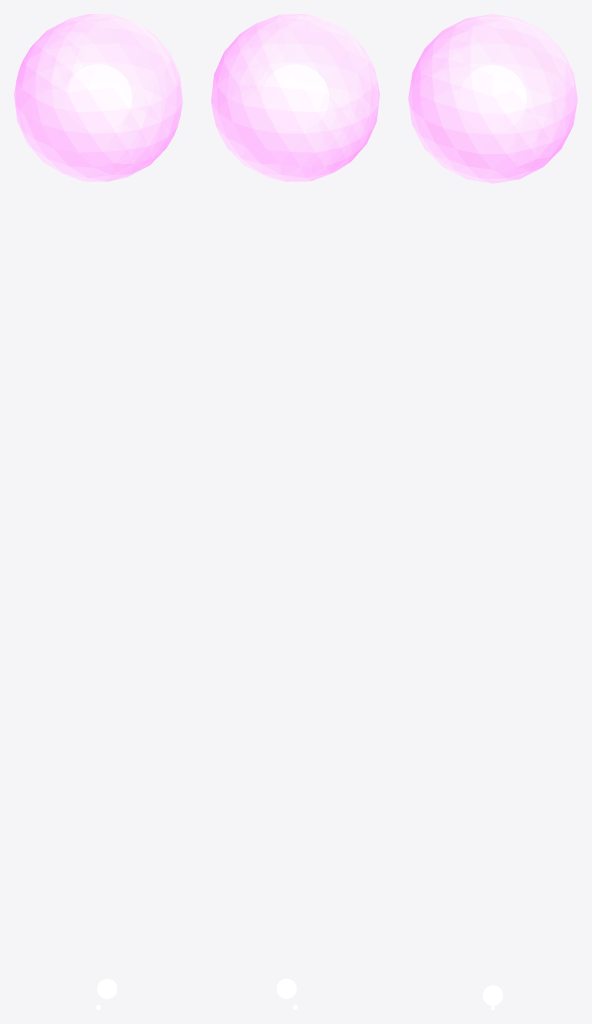
Rendered from firework01.glb.
3 views of the same model, side by side, from view 1: azimuth 30°, elevation 25°; view 2: azimuth 150°, elevation 25°; view 3: azimuth 270°, elevation 25° (orthographic).
Parts seen in each view (by area): view 1: Icosphere.002, Icosphere.001; view 2: Icosphere.002, Icosphere.001; view 3: Icosphere.002, Icosphere.001.
Part boxes in pixels (left/top/right/bottom): Icosphere.002: left=14, top=14, right=182, bottom=181; Icosphere.001: left=65, top=64, right=131, bottom=130; Icosphere.002: left=211, top=14, right=379, bottom=181; Icosphere.001: left=262, top=64, right=328, bottom=130; Icosphere.002: left=408, top=14, right=577, bottom=183; Icosphere.001: left=459, top=65, right=526, bottom=132.
Bounding box in the file's own units: 100 × 642 × 100.
